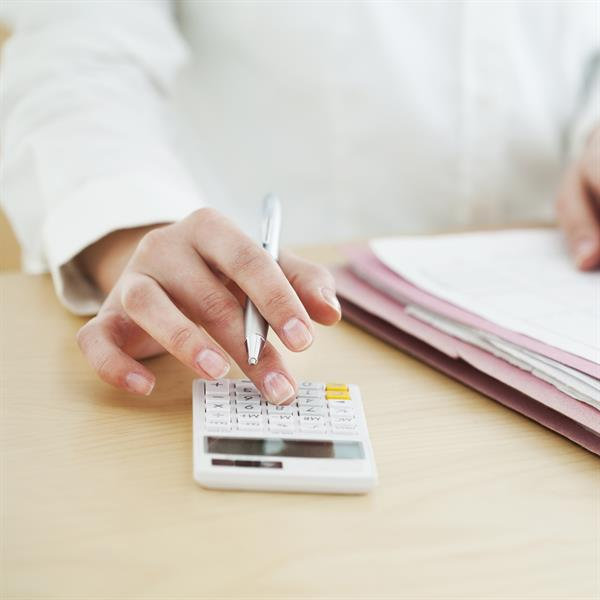Calculator: (189, 371, 383, 511)
